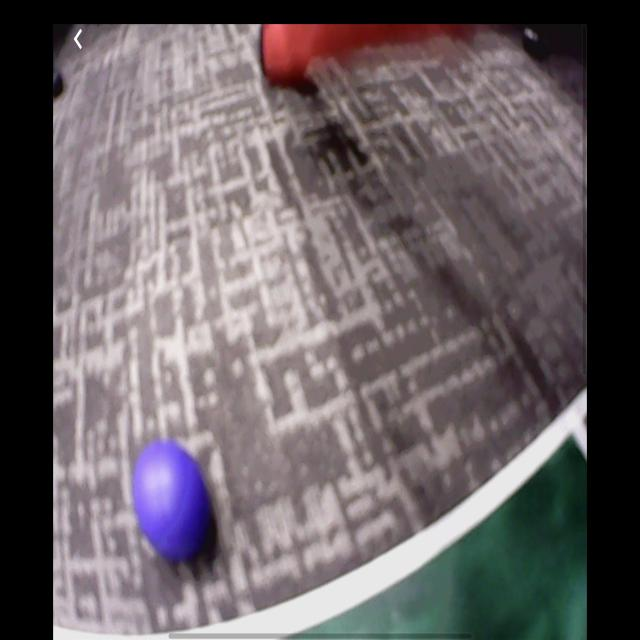ball: (134, 443, 213, 559)
